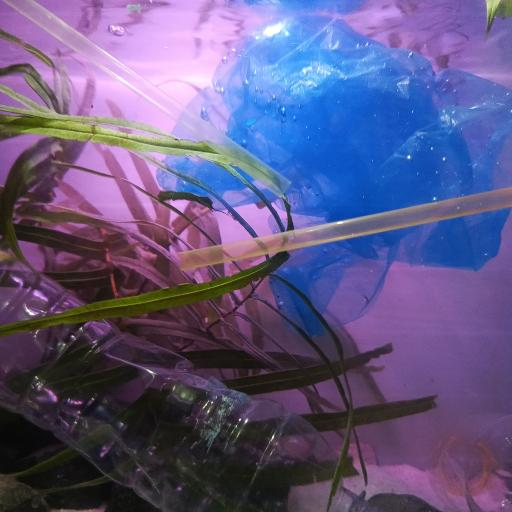plastic_bag: (154, 14, 511, 338)
plastic_bottle: (0, 254, 378, 512), (436, 420, 512, 512)
plastic_straw: (2, 0, 295, 200), (161, 183, 512, 268)
